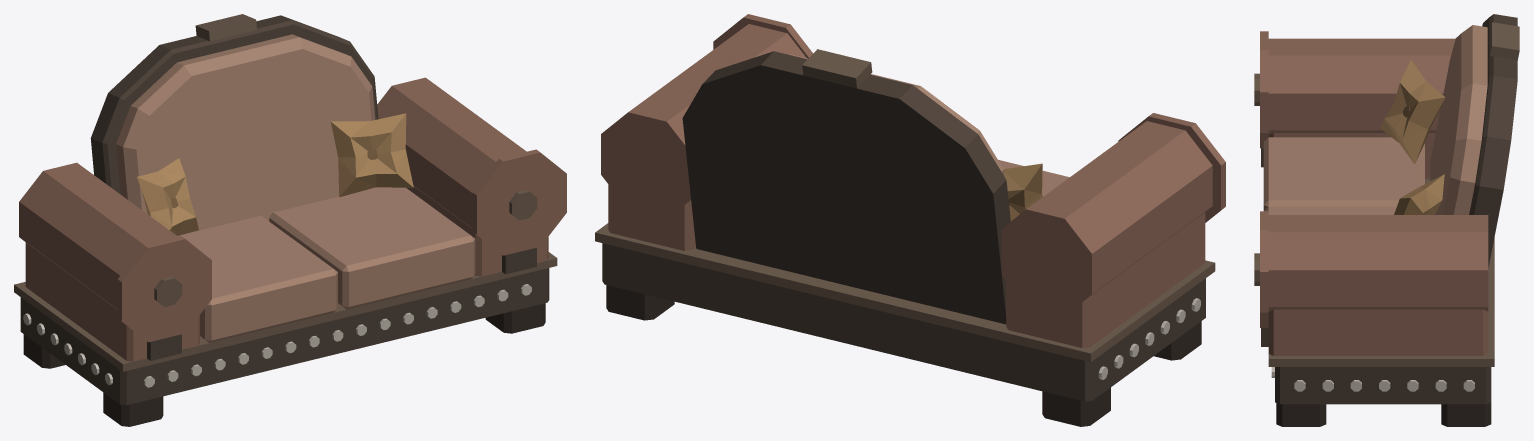
Rendered from Couch.fbx.
3 views of the same model, side by side, from view 1: azimuth 30°, elevation 25°; view 2: azimuth 150°, elevation 25°; view 3: azimuth 270°, elevation 25° (orthographic). The views are drawn at different scales.
Parts seen in each view (by area): view 1: Couch_Padding, Couch_Upholstery, Couch_Frame, Couch_Pillows, Couch_Trim, Couch_Feet, Couch_Studs; view 2: Couch_Frame, Couch_Upholstery, Couch_Trim, Couch_Feet, Couch_Pillows, Couch_Padding, Couch_Studs; view 3: Couch_Upholstery, Couch_Padding, Couch_Frame, Couch_Trim, Couch_Pillows, Couch_Feet, Couch_Studs.
Boxes of the visible parts, x1,y1,x2,y2 form: Couch_Padding: [116, 34, 475, 342]; Couch_Upholstery: [19, 77, 566, 361]; Couch_Frame: [20, 15, 549, 405]; Couch_Pillows: [137, 113, 413, 235]; Couch_Trim: [14, 14, 557, 371]; Couch_Feet: [23, 303, 545, 426]; Couch_Studs: [23, 284, 531, 387]; Couch_Frame: [602, 51, 1205, 401]; Couch_Upholstery: [601, 14, 1225, 347]; Couch_Trim: [595, 49, 1215, 362]; Couch_Feet: [606, 285, 1201, 426]; Couch_Pillows: [1004, 163, 1042, 220]; Couch_Padding: [788, 54, 1069, 196]; Couch_Studs: [1098, 298, 1200, 379]; Couch_Upholstery: [1260, 31, 1488, 355]; Couch_Padding: [1263, 25, 1487, 214]; Couch_Frame: [1261, 14, 1517, 404]; Couch_Trim: [1254, 22, 1519, 366]; Couch_Pillows: [1380, 60, 1445, 214]; Couch_Feet: [1276, 402, 1491, 426]; Couch_Studs: [1271, 367, 1474, 391].
Size of the model in its own units: 8.5 by 5.02 by 4.23.
